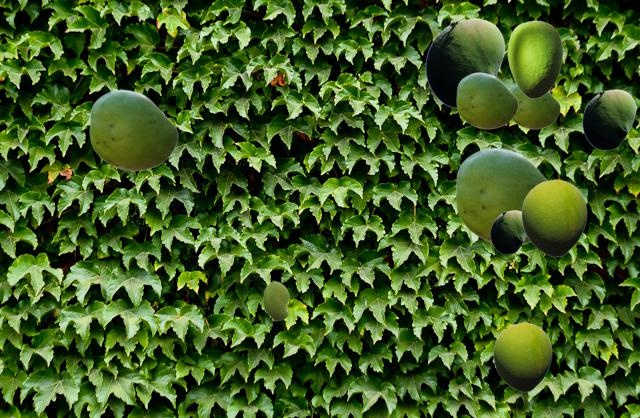green_mango: (455, 147, 548, 244), (89, 89, 177, 170), (425, 18, 504, 107), (521, 179, 586, 256), (507, 20, 562, 97), (493, 322, 551, 391), (456, 72, 517, 128), (582, 89, 635, 149), (509, 84, 559, 128), (490, 210, 526, 253), (263, 281, 288, 320)
